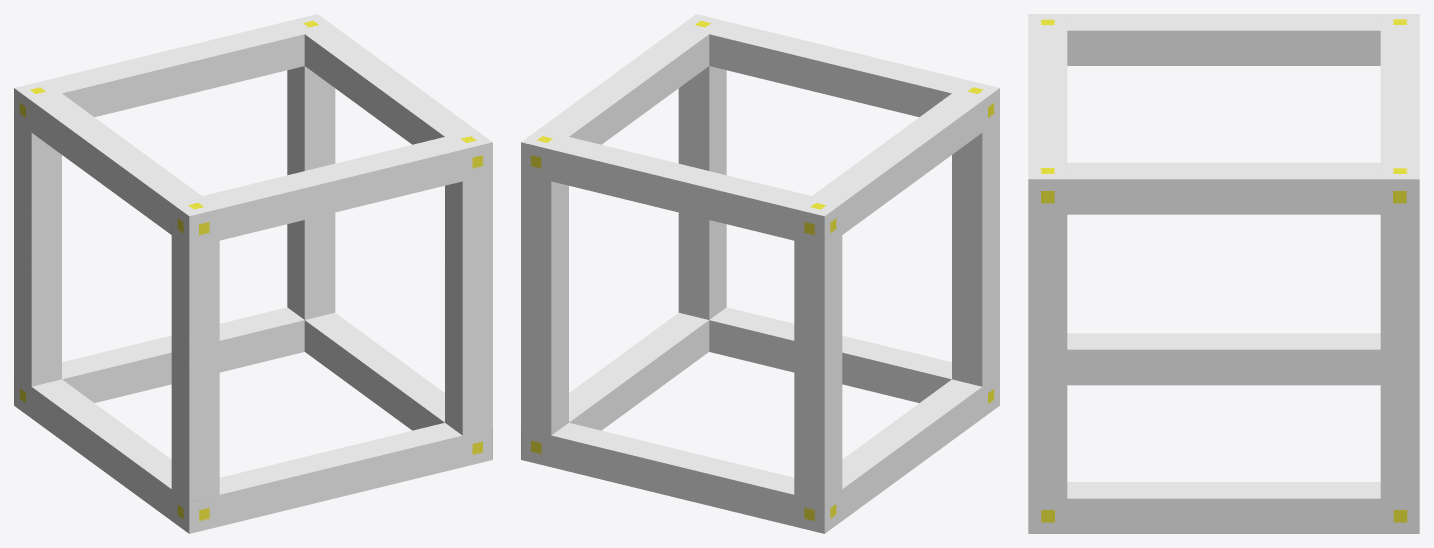
File: tooreruyuka.fbx
The picture shows the model from 3 angles, left to right: view 1: azimuth 30°, elevation 25°; view 2: azimuth 150°, elevation 25°; view 3: azimuth 270°, elevation 25°; orthographic projection. The views are drawn at different scales.
Visible parts, largest first — view 1: 立方体.001; view 2: 立方体.001; view 3: 立方体.001.
Part boxes in pixels (<box>): 立方体.001: <box>14,14,492,533</box>; 立方体.001: <box>521,14,999,533</box>; 立方体.001: <box>1028,14,1419,533</box>.
Bounding box in the file's own units: 2 × 2 × 2.
Materials: 1 (1 with a texture image).
